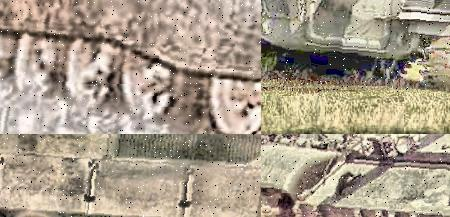tanks: (1, 1, 262, 135), (1, 135, 262, 217), (262, 1, 450, 93), (262, 135, 450, 217)
